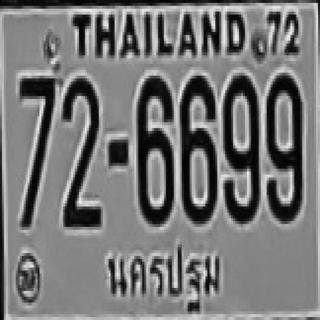N00: (221, 73, 259, 221)
N02: (59, 74, 99, 220), (61, 80, 99, 226)
N06: (178, 73, 215, 221), (136, 74, 172, 222)
N07: (18, 76, 55, 224)
N09: (221, 73, 259, 221), (265, 73, 300, 221)
P28: (103, 240, 220, 314)
